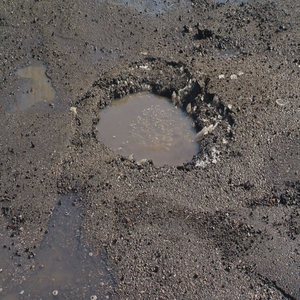pothole: (75, 56, 236, 180)
